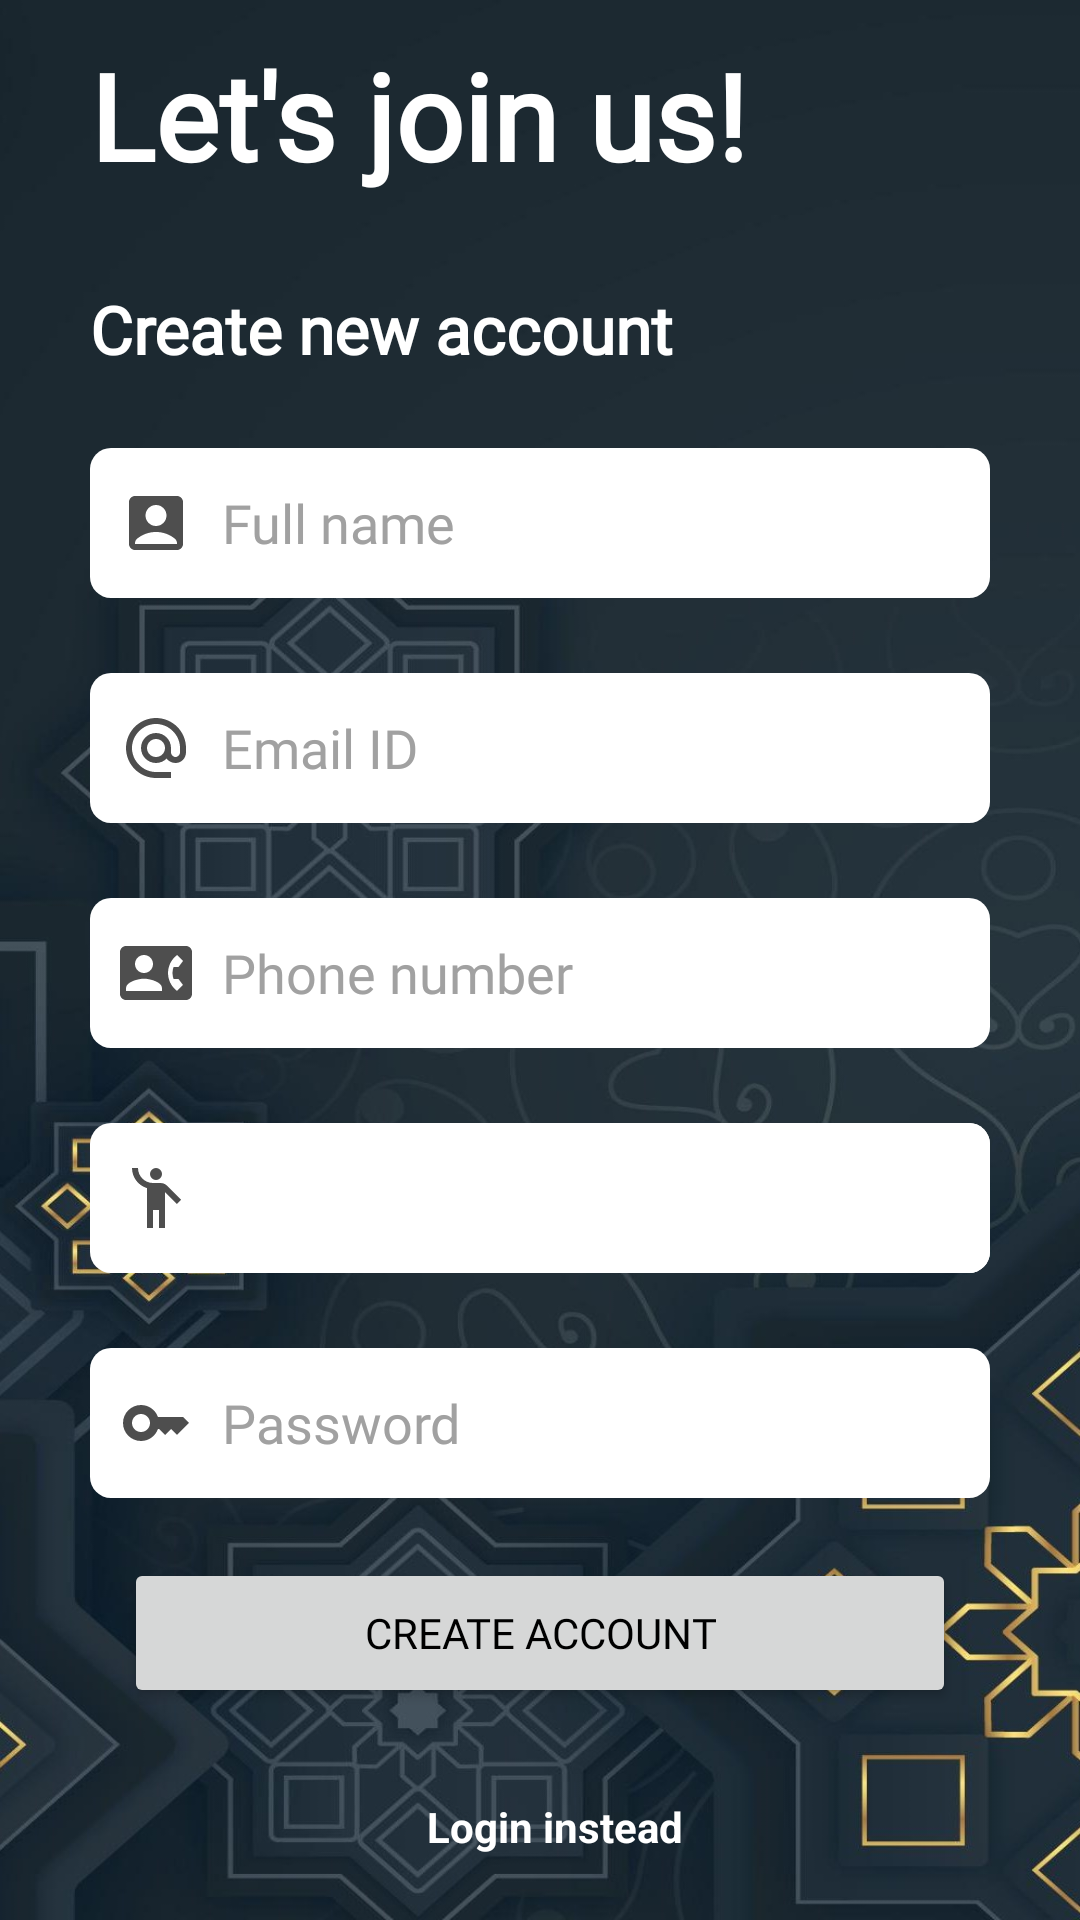

Icon click points for this 1080w x 1920h phone screenshot, format (x,y):
Gender: (156,1198)
